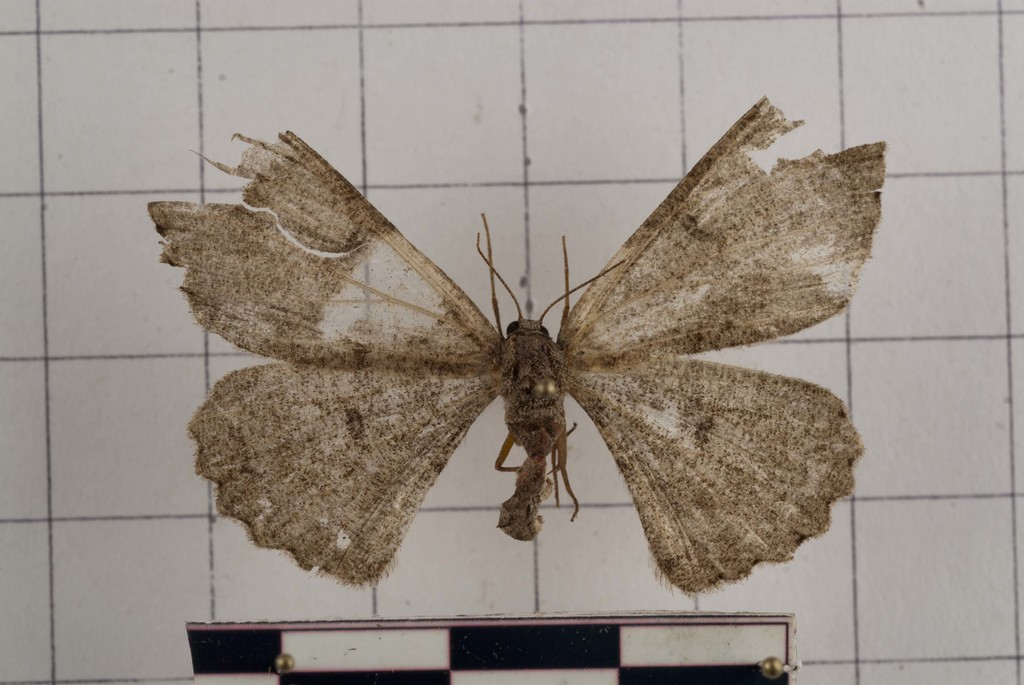Butterfly: (144, 112, 898, 597)
